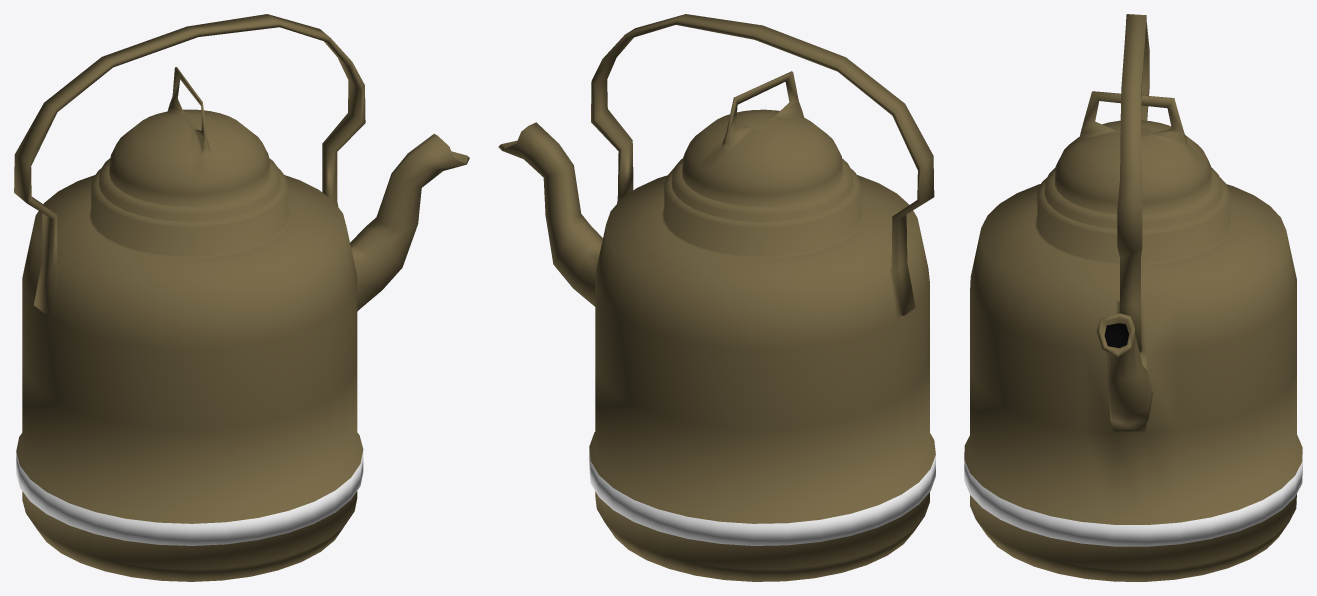
File: FMC_Kettle.fbx
The picture shows the model from 3 angles, left to right: view 1: azimuth 30°, elevation 25°; view 2: azimuth 150°, elevation 25°; view 3: azimuth 270°, elevation 25°; orthographic projection. The views are drawn at different scales.
Parts seen in each view (by area): view 1: Kettle; view 2: Kettle; view 3: Kettle.
Part boxes in pixels (left/top/right/bottom): Kettle: left=14, top=14, right=469, bottom=581; Kettle: left=498, top=14, right=935, bottom=581; Kettle: left=964, top=14, right=1302, bottom=581.
Bounding box in the file's own units: 26.16 × 27.66 × 17.83.
